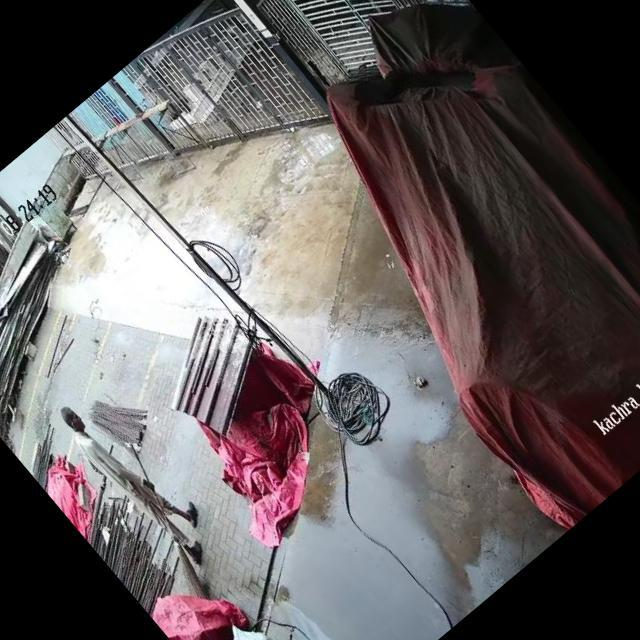person: (50, 383, 206, 558)
